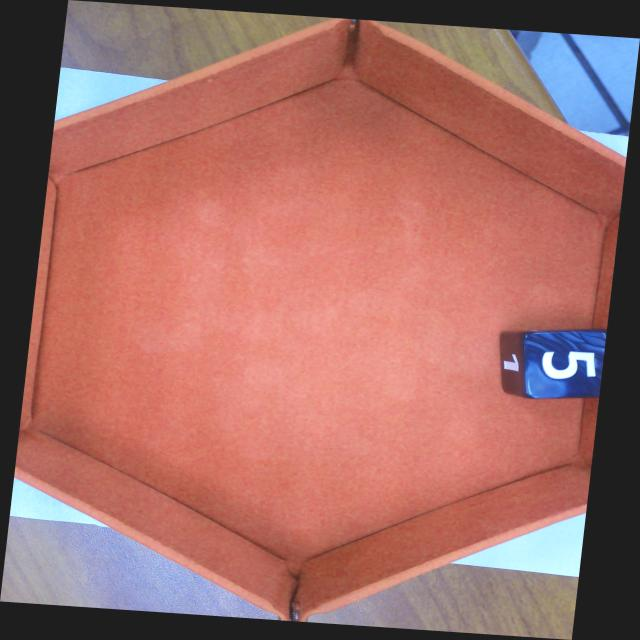dice: (528, 333, 607, 399)
